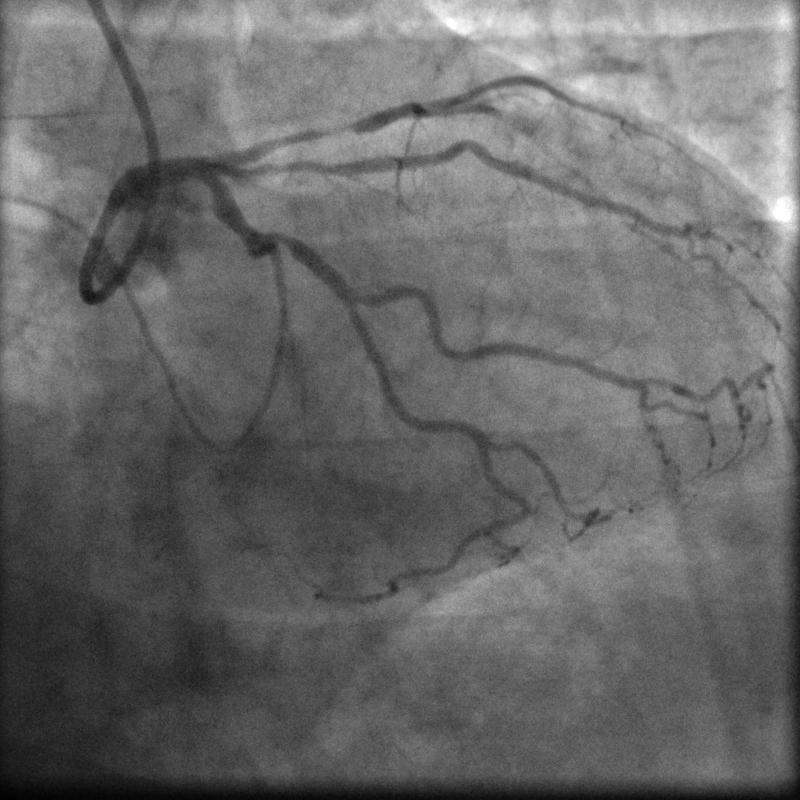Stenosis: (272, 228, 292, 250)
